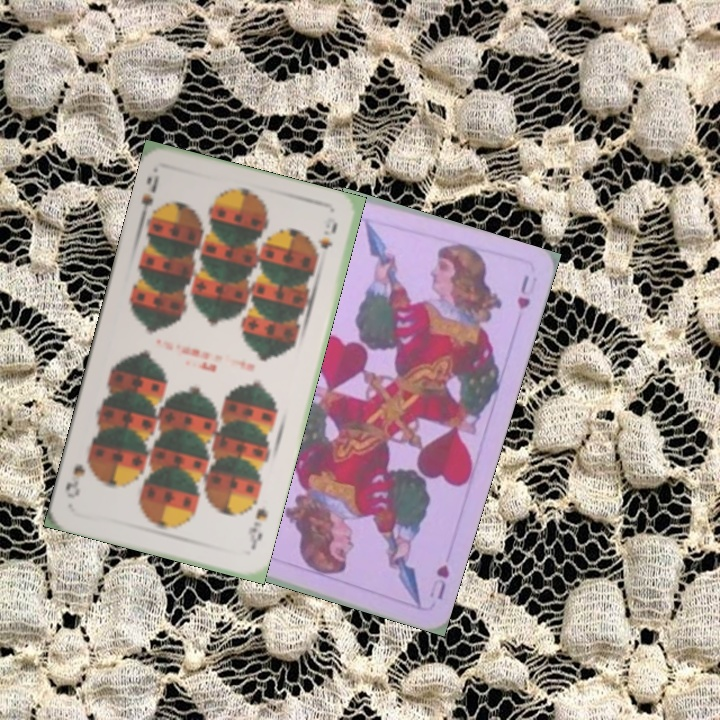HU: (425, 560, 452, 602)
S9: (135, 171, 164, 226), (244, 504, 270, 553)
